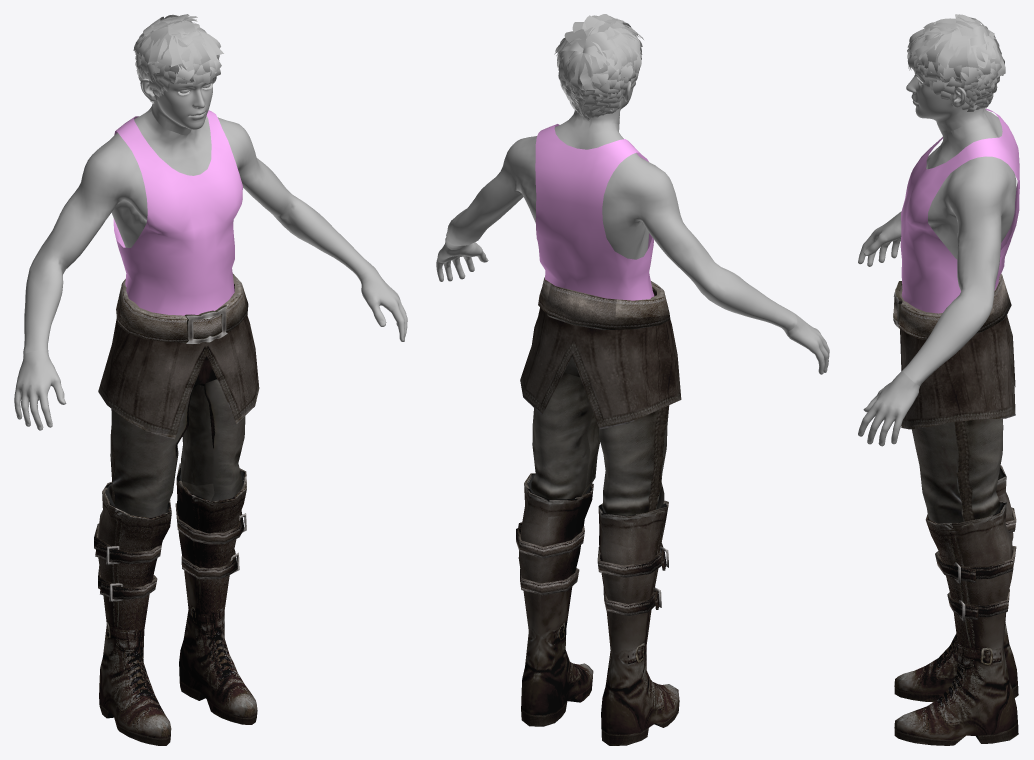
Rendered from MINHO-00.fbx.
3 renders of one model, left to right at view 1: azimuth 30°, elevation 25°; view 2: azimuth 150°, elevation 25°; view 3: azimuth 270°, elevation 25°, orthographic.
Visible parts, largest first — view 1: knight0_pants, knight0_boot, SK_GB_BODY, SK_GB_TOP_04, SK_GB_HAIR_03, SK_GB_RIGHT_HAND, SK_GB_LEFT_HAND; view 2: knight0_pants, knight0_boot, SK_GB_BODY, SK_GB_TOP_04, SK_GB_HAIR_03, SK_GB_LEFT_HAND, SK_GB_RIGHT_HAND; view 3: knight0_boot, knight0_pants, SK_GB_BODY, SK_GB_TOP_04, SK_GB_HAIR_03, SK_GB_LEFT_HAND, SK_GB_RIGHT_HAND.
Part boxes in pixels (left/top/right/bottom): knight0_pants: left=98, top=273, right=259, bottom=517; knight0_boot: left=94, top=463, right=257, bottom=745; SK_GB_BODY: left=23, top=78, right=374, bottom=354; SK_GB_TOP_04: left=113, top=110, right=242, bottom=315; SK_GB_HAIR_03: left=133, top=14, right=223, bottom=103; SK_GB_RIGHT_HAND: left=14, top=350, right=66, bottom=430; SK_GB_LEFT_HAND: left=358, top=268, right=407, bottom=341; knight0_pants: left=520, top=277, right=681, bottom=515; knight0_boot: left=516, top=473, right=679, bottom=745; SK_GB_BODY: left=445, top=81, right=797, bottom=331; SK_GB_TOP_04: left=535, top=124, right=654, bottom=300; SK_GB_HAIR_03: left=554, top=14, right=643, bottom=120; SK_GB_LEFT_HAND: left=436, top=240, right=488, bottom=281; SK_GB_RIGHT_HAND: left=784, top=312, right=829, bottom=374; knight0_boot: left=894, top=465, right=1018, bottom=745; knight0_pants: left=893, top=273, right=1015, bottom=523; SK_GB_BODY: left=902, top=70, right=1016, bottom=385; SK_GB_TOP_04: left=900, top=108, right=1019, bottom=313; SK_GB_HAIR_03: left=907, top=14, right=1005, bottom=111; SK_GB_LEFT_HAND: left=858, top=371, right=919, bottom=446; SK_GB_RIGHT_HAND: left=858, top=211, right=901, bottom=266.
Size of the model in its own units: 107 by 184 by 38.57.
